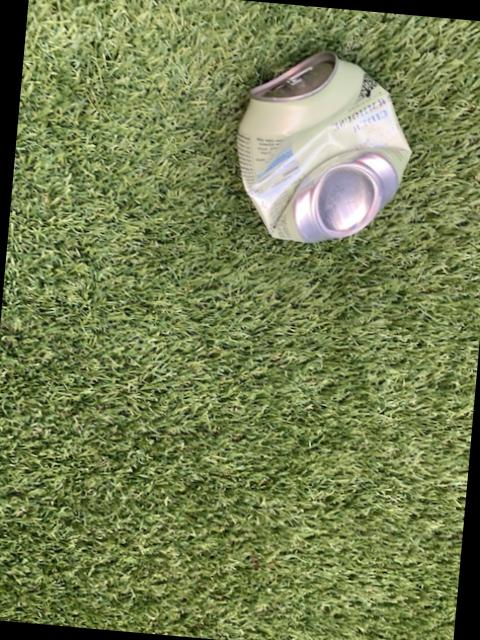metal: (234, 52, 407, 242)
